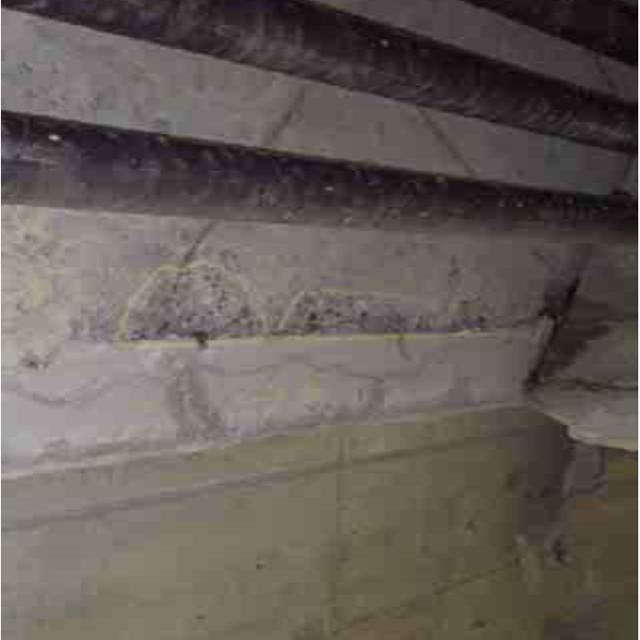spalling: (74, 267, 513, 347)
